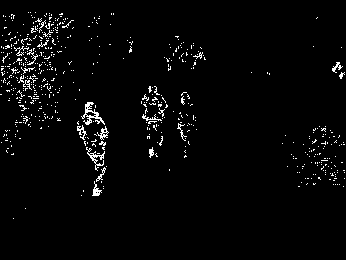person: (75, 101, 115, 199), (139, 84, 171, 159), (175, 89, 205, 159)
